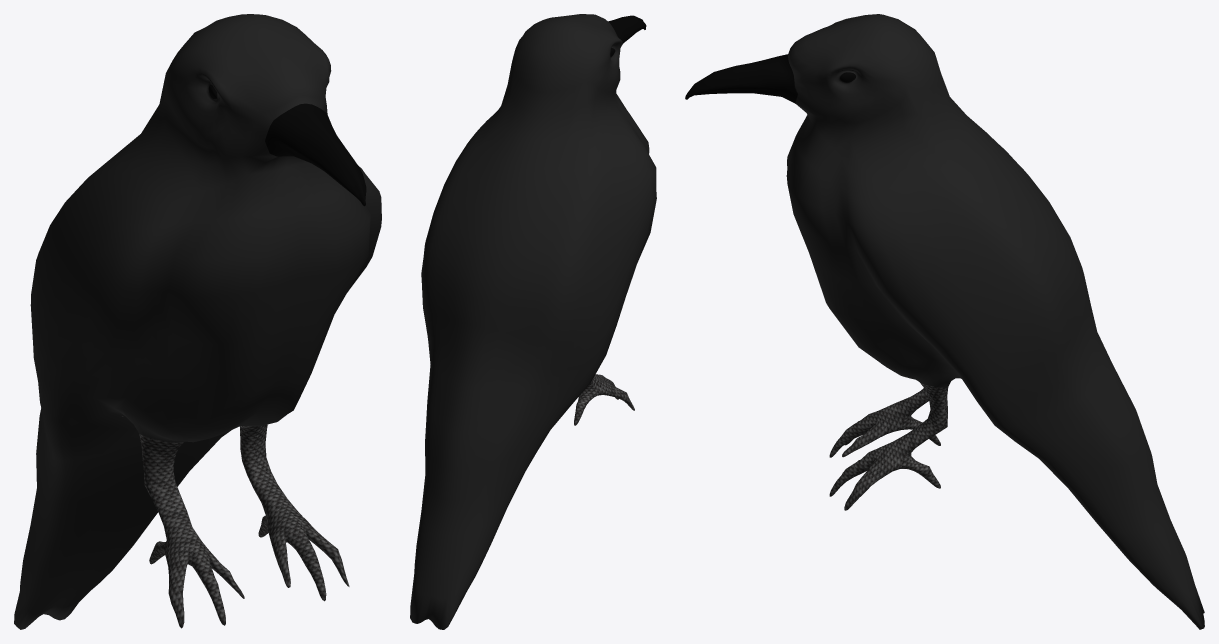
The model's file is low_poly_crow.glb.
3 renders of one model, left to right at view 1: azimuth 30°, elevation 25°; view 2: azimuth 150°, elevation 25°; view 3: azimuth 270°, elevation 25°, orthographic. The views are drawn at different scales.
Parts seen in each view (by area): view 1: Object_2; view 2: Object_2; view 3: Object_2.
Part boxes in pixels (box(x1,y1,x2,y2)): Object_2: box(14, 14, 381, 629); Object_2: box(410, 14, 656, 629); Object_2: box(685, 14, 1204, 629).
Bounding box in the file's own units: 12.45 × 32.22 × 25.23.
1 material, 1 textured.
